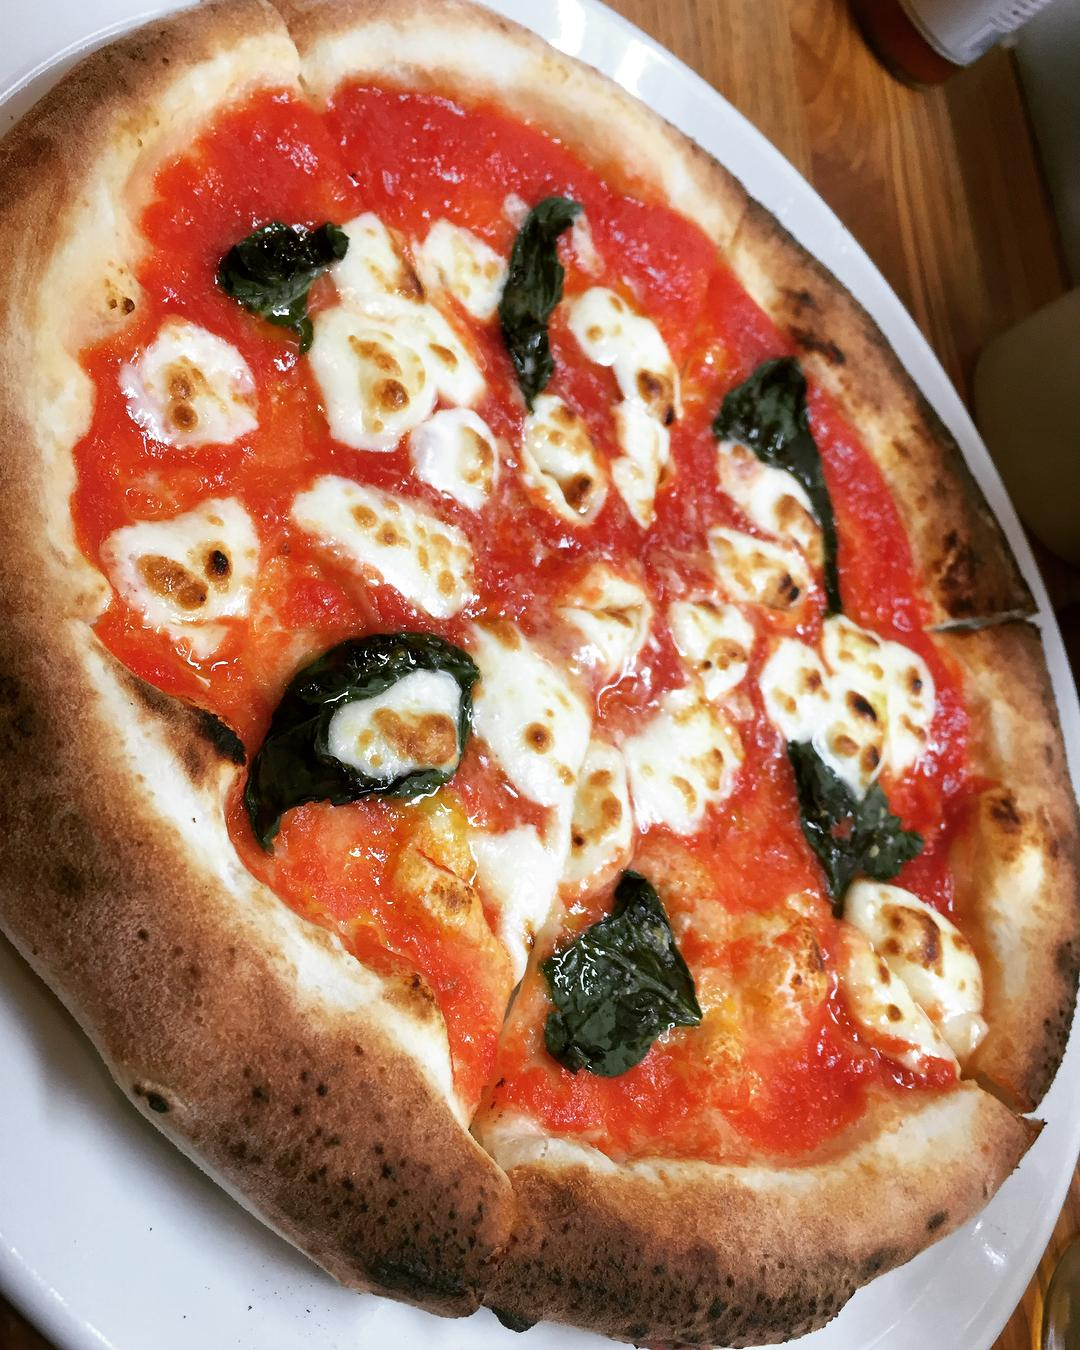Basil: (244, 638, 469, 838), (544, 874, 700, 1078), (786, 742, 918, 896), (220, 212, 338, 344), (496, 184, 564, 408), (716, 338, 827, 469)
Cheese: (476, 631, 758, 838), (341, 226, 490, 478), (292, 476, 478, 630), (846, 904, 990, 1078), (522, 406, 672, 522), (773, 620, 908, 748), (108, 510, 244, 631), (712, 476, 827, 618), (128, 322, 258, 436), (334, 676, 460, 786), (576, 292, 672, 406)
Pizza: (0, 0, 1080, 1350)
